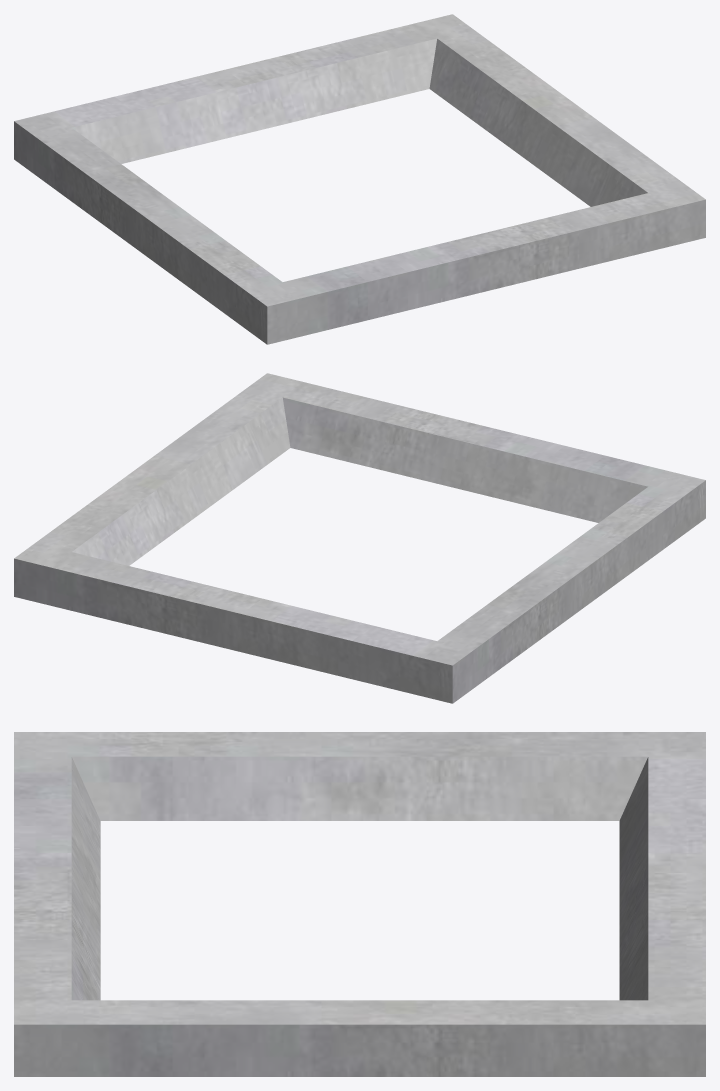
File: WaffleStepP1.dae
3 renders of one model, top to bottom at view 1: azimuth 30°, elevation 25°; view 2: azimuth 150°, elevation 25°; view 3: azimuth 270°, elevation 25°, orthographic. The views are drawn at different scales.
Parts seen in each view (by area): view 1: SketchUp (×2); view 2: SketchUp (×2); view 3: SketchUp (×2).
Boxes of the visible parts, x1,y1,x2,y2 form: SketchUp (×2): [14, 14, 705, 344]; SketchUp (×2): [14, 373, 705, 703]; SketchUp (×2): [14, 732, 705, 1076].
Size of the model in its own units: 47.24 by 47.24 by 3.94.
1 material, 1 textured.
